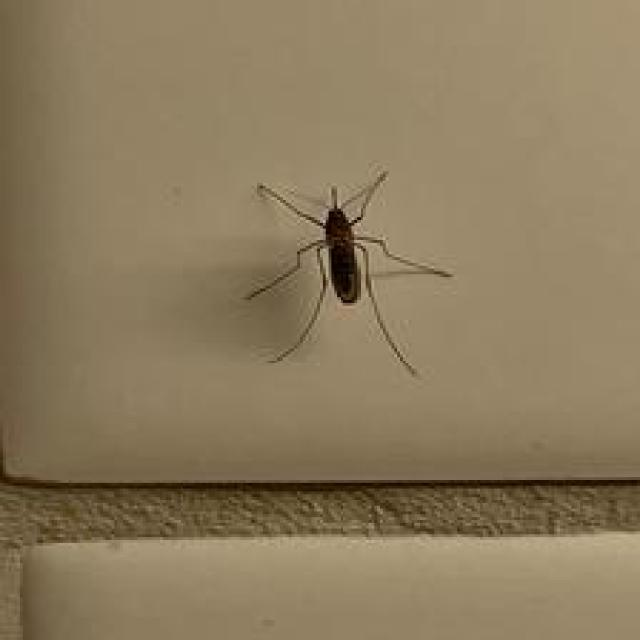Culex: (241, 166, 453, 377)
